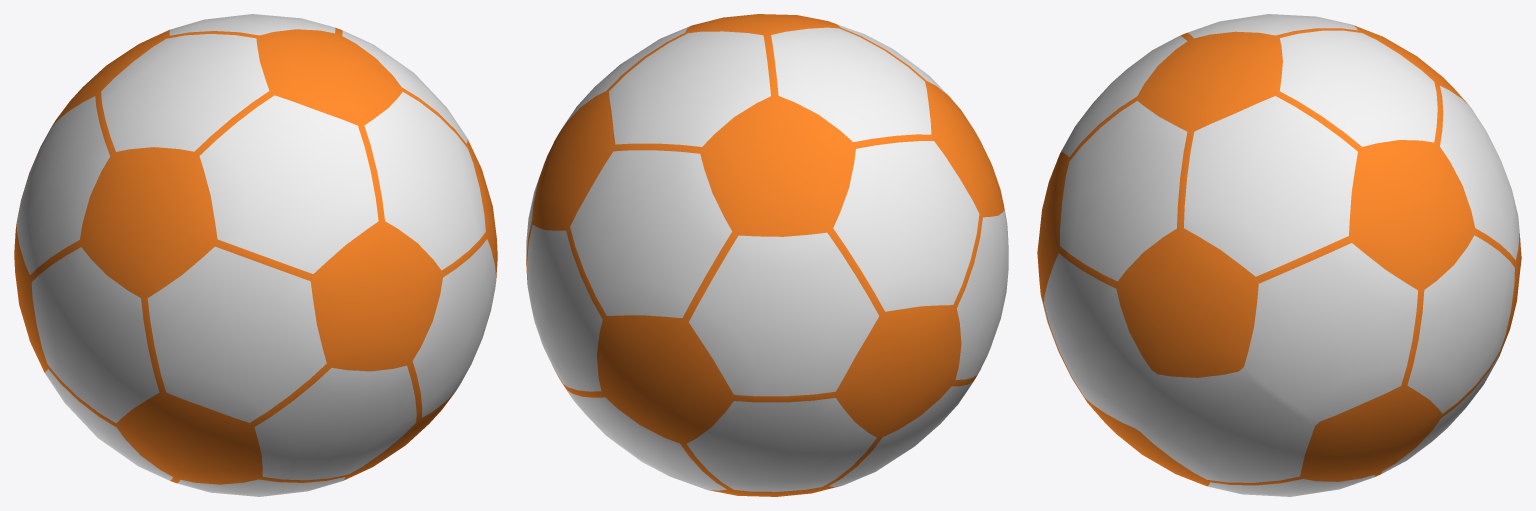
Rendered from Soccerball_Orange.fbx.
3 views of the same model, side by side, from view 1: azimuth 30°, elevation 25°; view 2: azimuth 150°, elevation 25°; view 3: azimuth 270°, elevation 25° (orthographic).
Parts seen in each view (by area): view 1: Soccerball_Orange; view 2: Soccerball_Orange; view 3: Soccerball_Orange.
Boxes of the visible parts, bbox=[...] form: Soccerball_Orange: bbox=[14, 14, 497, 496]; Soccerball_Orange: bbox=[526, 14, 1008, 496]; Soccerball_Orange: bbox=[1037, 14, 1521, 496].
Bounding box in the file's own units: 92.54 × 92.53 × 92.65.
